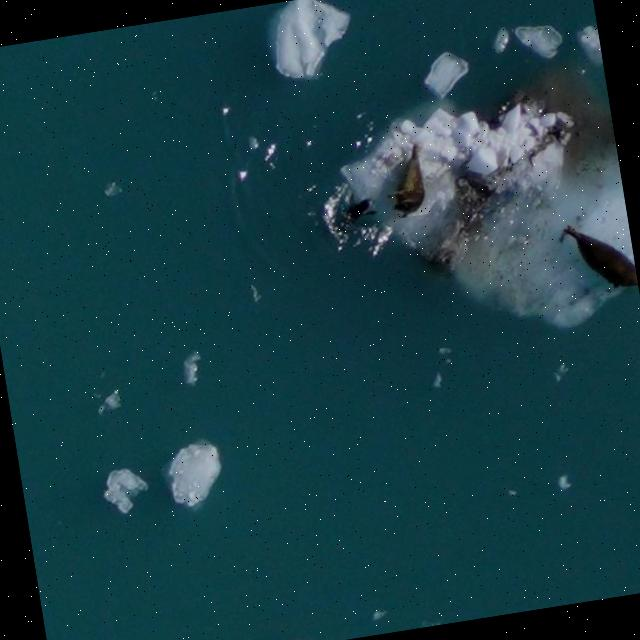seal: (562, 228, 639, 289), (392, 143, 426, 218)
